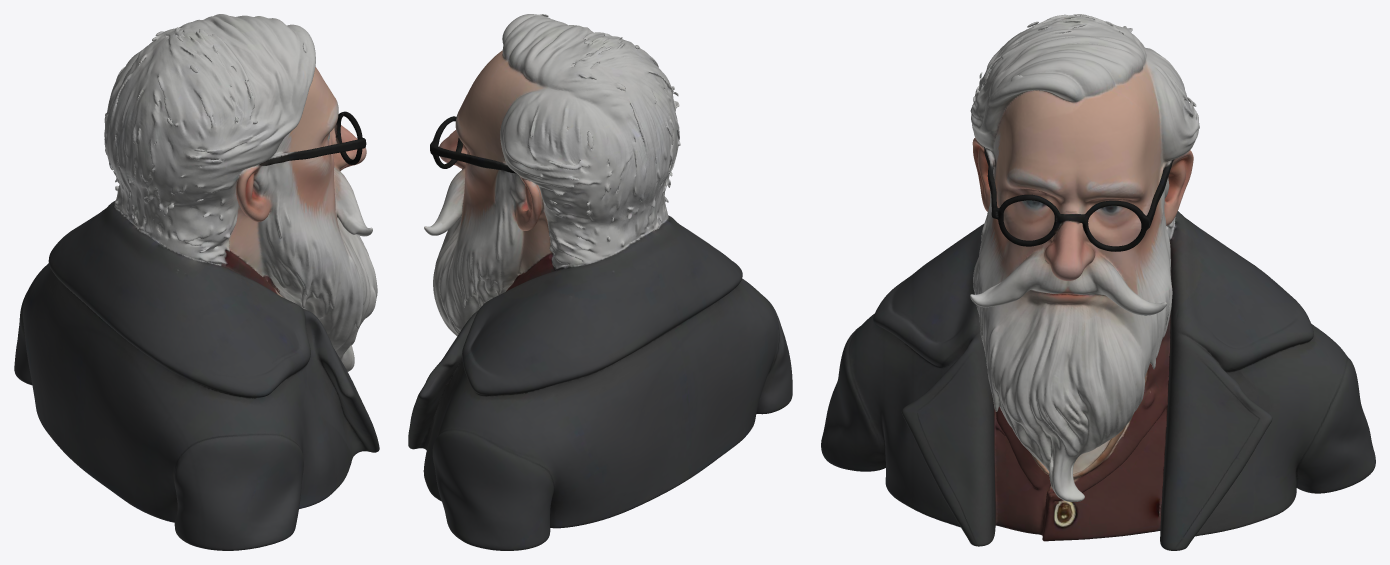
File: detailed_realistic_model_albusdumbledore_02.glb
The picture shows the model from 3 angles, left to right: view 1: azimuth 30°, elevation 25°; view 2: azimuth 150°, elevation 25°; view 3: azimuth 270°, elevation 25°; orthographic projection. The views are drawn at different scales.
Parts seen in each view (by area): view 1: tripo_node_54324d1c-d0e4-40d3-8922-5eae8c828c6e; view 2: tripo_node_54324d1c-d0e4-40d3-8922-5eae8c828c6e; view 3: tripo_node_54324d1c-d0e4-40d3-8922-5eae8c828c6e.
Part boxes in pixels (<box>): tripo_node_54324d1c-d0e4-40d3-8922-5eae8c828c6e: <box>14,14,379,550</box>; tripo_node_54324d1c-d0e4-40d3-8922-5eae8c828c6e: <box>408,14,792,550</box>; tripo_node_54324d1c-d0e4-40d3-8922-5eae8c828c6e: <box>821,14,1375,550</box>.
Bounding box in the file's own units: 0.6226 × 0.9054 × 1.
Materials: 1 (1 with a texture image).
